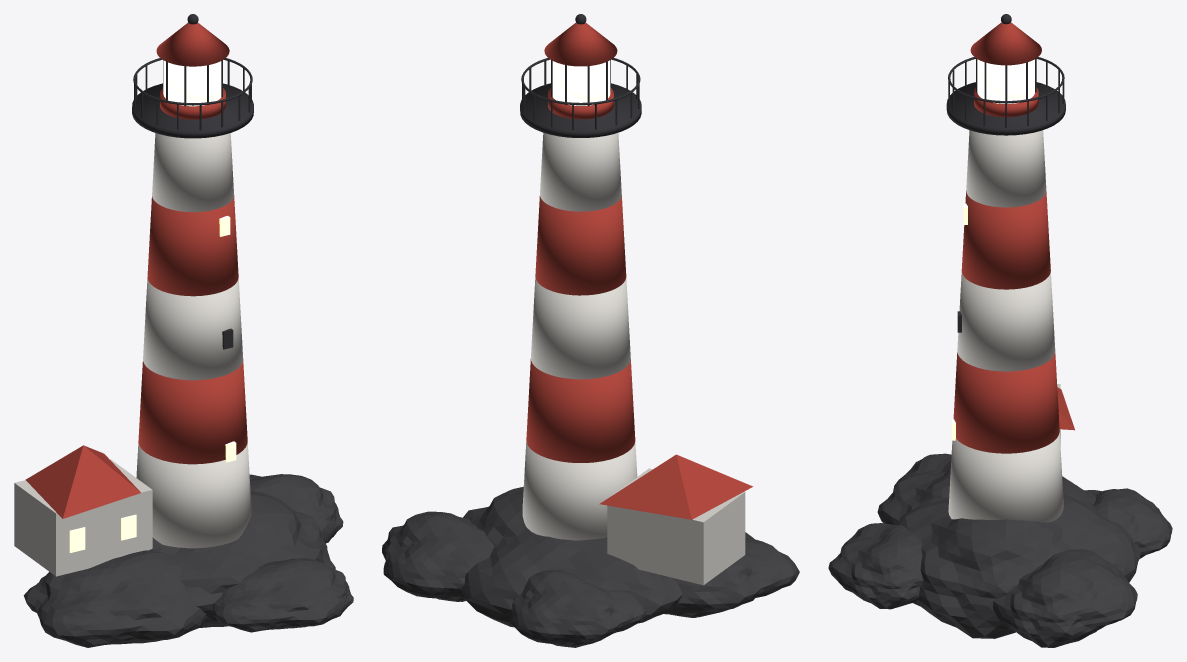
File: lighthouse.glb
3 renders of one model, left to right at view 1: azimuth 30°, elevation 25°; view 2: azimuth 150°, elevation 25°; view 3: azimuth 270°, elevation 25°, orthographic. The views are drawn at different scales.
Parts seen in each view (by area): view 1: Rock2, Cone.001, Cone, Rock0, Cube.003, Cone.002, Rock3, Cone.003, Cone.004, Cone.009, Cone.005, Rock1 (+4 smaller); view 2: Rock0, Cone.001, Cube.003, Cone.002, Cone, Cone.003, Rock4, Rock1, Cone.004, Cone.009, Rock2, Cone.005 (+4 smaller); view 3: Rock0, Rock1, Cone.001, Cone, Cone.002, Cone.003, Rock3, Cone.004, Cone.005, Rock4, Rock2, Cone.008 (+3 smaller).
Part boxes in pixels (x1=…): Rock2: x1=23, y1=550, x2=207, y2=647; Cone.001: x1=138, y1=358, x2=247, y2=464; Cone: x1=136, y1=442, x2=251, y2=548; Rock0: x1=148, y1=491, x2=335, y2=627; Cube.003: x1=14, y1=459, x2=152, y2=576; Cone.002: x1=143, y1=278, x2=242, y2=380; Rock3: x1=212, y1=558, x2=353, y2=632; Cone.003: x1=147, y1=195, x2=238, y2=296; Cone.004: x1=152, y1=133, x2=233, y2=212; Cone.009: x1=25, y1=445, x2=140, y2=518; Cone.005: x1=132, y1=83, x2=253, y2=138; Rock1: x1=249, y1=474, x2=343, y2=543; Rock0: x1=458, y1=486, x2=682, y2=627; Cone.001: x1=526, y1=359, x2=635, y2=462; Cube.003: x1=607, y1=468, x2=745, y2=585; Cone.002: x1=531, y1=276, x2=630, y2=379; Cone: x1=522, y1=440, x2=637, y2=540; Cone.003: x1=535, y1=195, x2=626, y2=295; Rock4: x1=510, y1=569, x2=646, y2=647; Rock1: x1=382, y1=511, x2=493, y2=601; Cone.004: x1=540, y1=132, x2=621, y2=211; Cone.009: x1=599, y1=454, x2=753, y2=519; Rock2: x1=664, y1=532, x2=799, y2=617; Cone.005: x1=520, y1=83, x2=641, y2=137; Rock0: x1=898, y1=476, x2=1140, y2=638; Rock1: x1=993, y1=549, x2=1137, y2=647; Cone.001: x1=953, y1=352, x2=1059, y2=453; Cone: x1=948, y1=432, x2=1063, y2=522; Cone.002: x1=957, y1=271, x2=1055, y2=371; Cone.003: x1=961, y1=191, x2=1050, y2=289; Rock3: x1=828, y1=523, x2=923, y2=609; Cone.004: x1=966, y1=130, x2=1046, y2=207; Cone.005: x1=946, y1=82, x2=1065, y2=135; Rock4: x1=1084, y1=488, x2=1172, y2=558; Rock2: x1=877, y1=453, x2=951, y2=525; Cone.008: x1=970, y1=22, x2=1041, y2=65.
Size of the model in its own units: 11.58 by 18.94 by 10.12.
